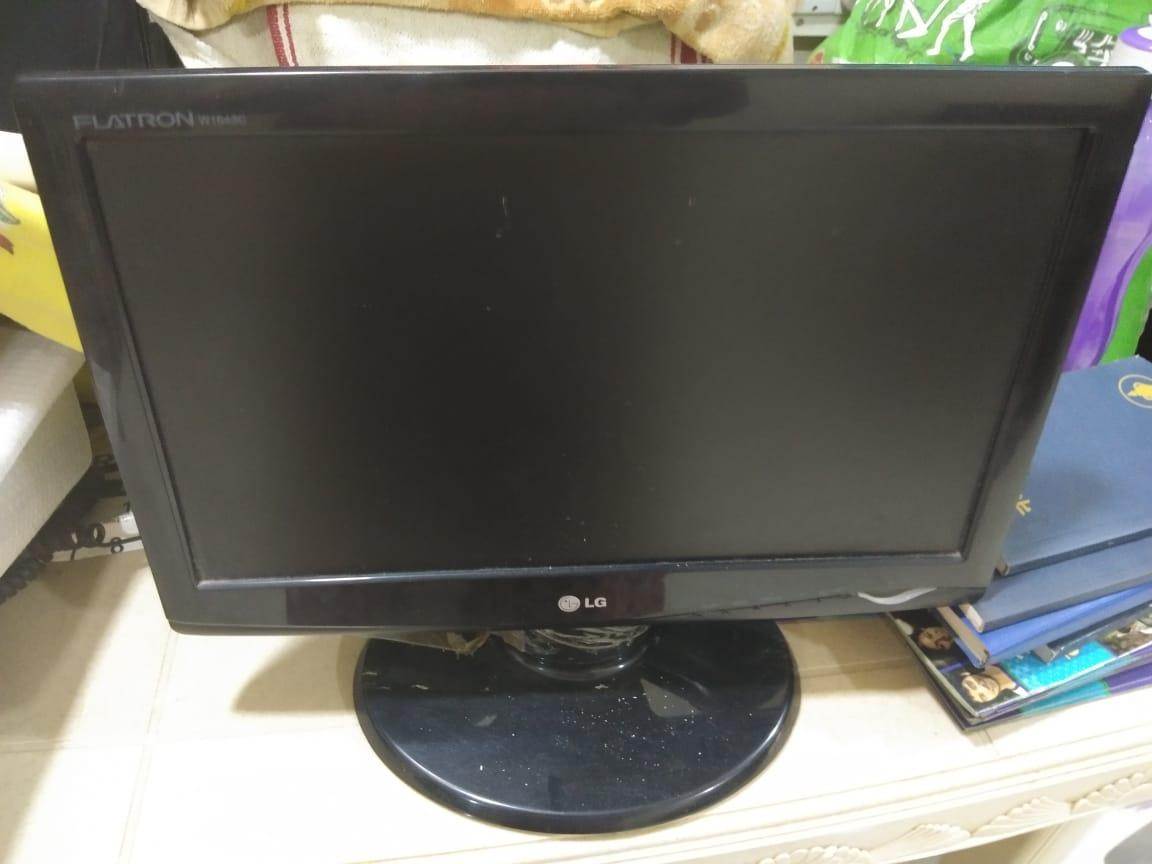monitor: (9, 58, 1152, 842)
